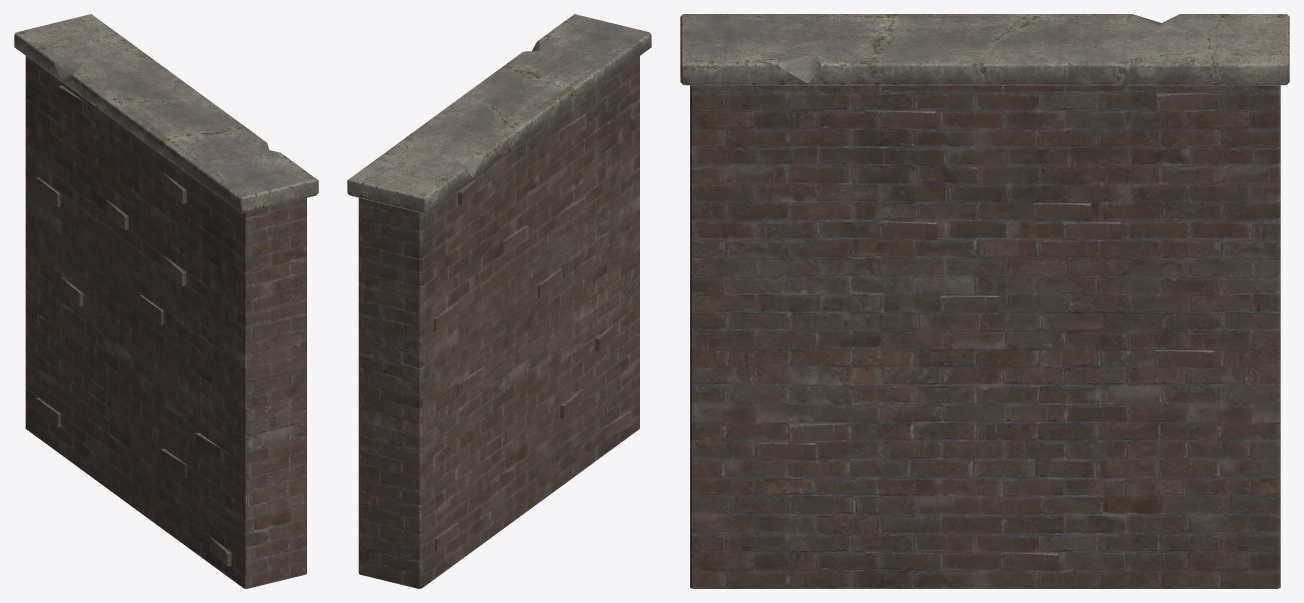
File: wall_300x300.glb
3 views of the same model, side by side, from view 1: azimuth 30°, elevation 25°; view 2: azimuth 150°, elevation 25°; view 3: azimuth 270°, elevation 25° (orthographic). The views are drawn at different scales.
Parts seen in each view (by area): view 1: wall_300x300_LOD0; view 2: wall_300x300_LOD0; view 3: wall_300x300_LOD0.
Boxes of the visible parts, x1,y1,x2,y2 form: wall_300x300_LOD0: (14, 14, 318, 588); wall_300x300_LOD0: (347, 14, 651, 588); wall_300x300_LOD0: (680, 14, 1289, 588).
Bounding box in the file's own units: 0.6268 × 3 × 3.12.
Materials: 2 (2 with a texture image).
